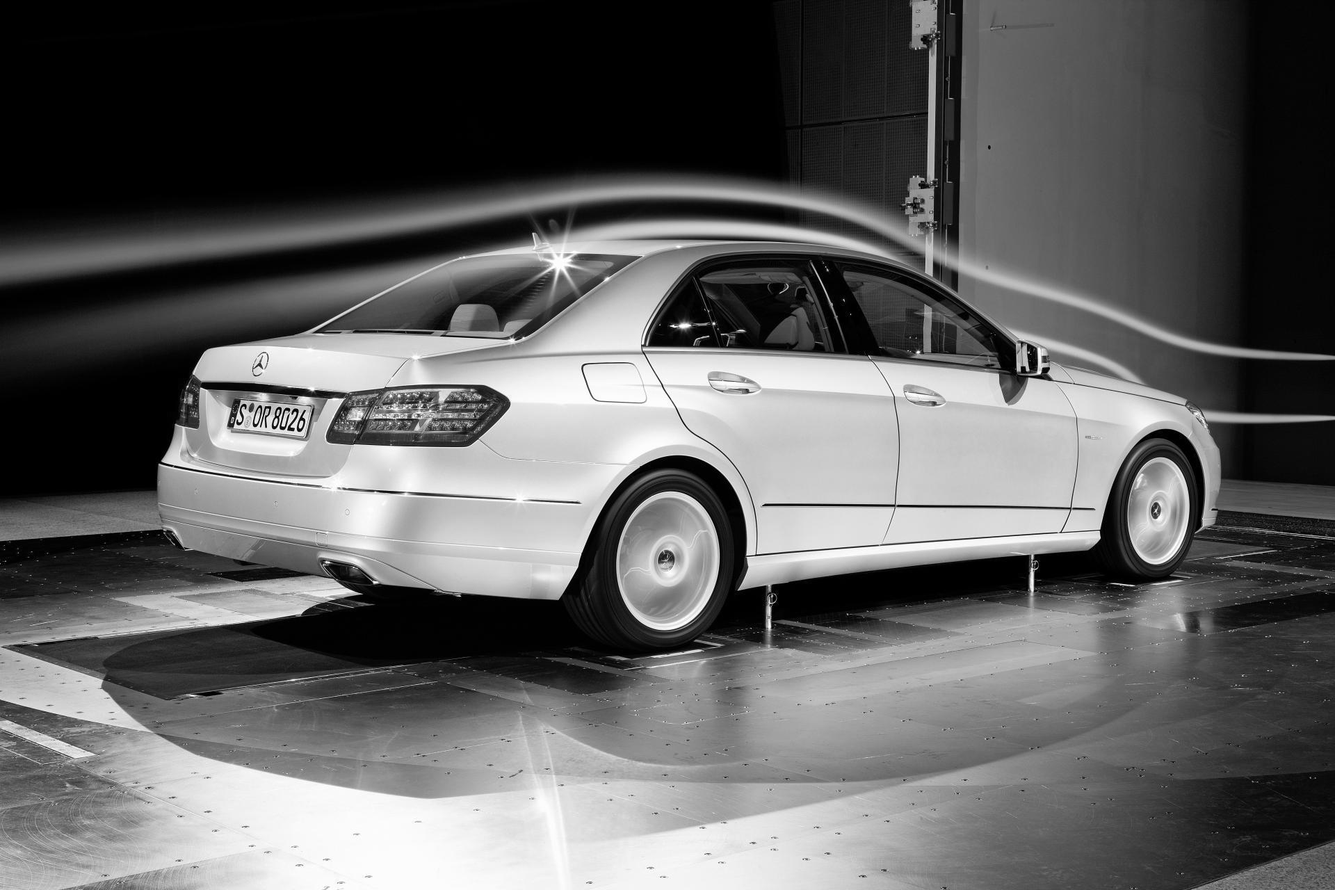car: (154, 234, 1227, 655)
